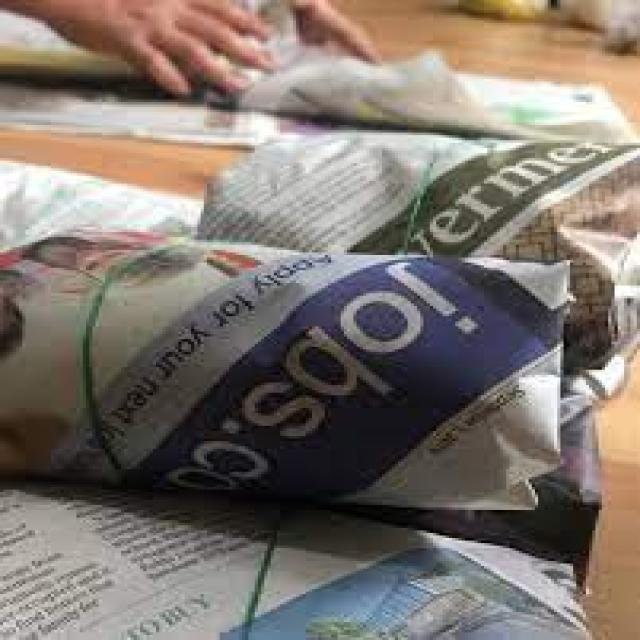newspaper: (0, 231, 581, 518), (0, 500, 573, 637), (195, 125, 640, 269)
